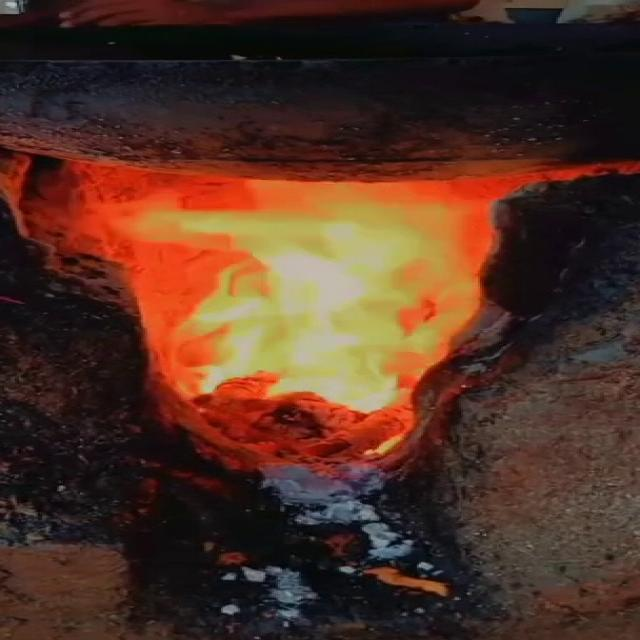Fire: (0, 150, 640, 482)
